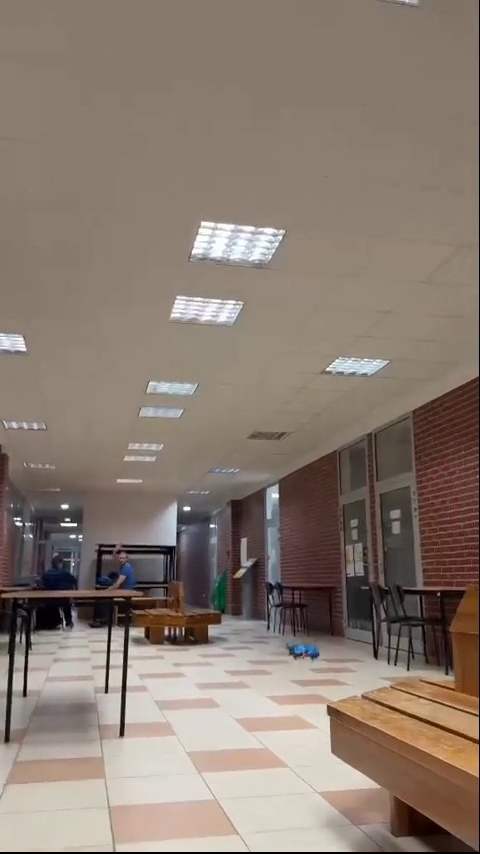drone: (288, 642, 322, 662)
no vest: (35, 548, 77, 591), (97, 549, 132, 596)
